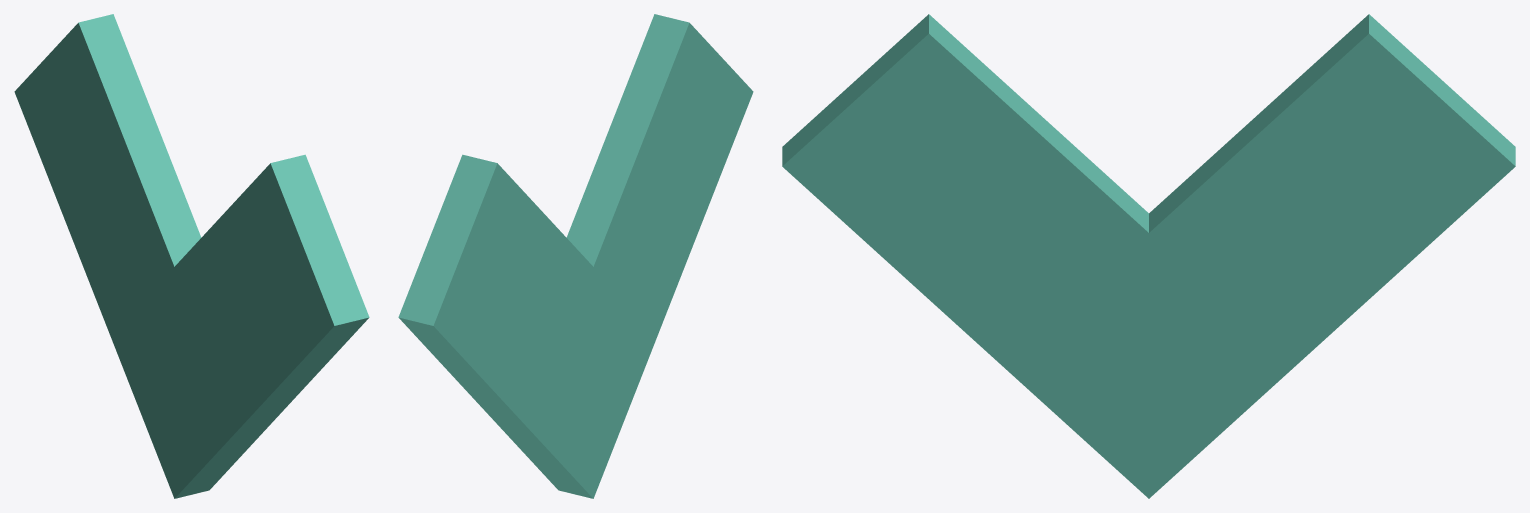
File: arrowDown.glb
3 renders of one model, left to right at view 1: azimuth 30°, elevation 25°; view 2: azimuth 150°, elevation 25°; view 3: azimuth 270°, elevation 25°, orthographic. The views are drawn at different scales.
Parts seen in each view (by area): view 1: ArrowDown; view 2: ArrowDown; view 3: ArrowDown.
Part boxes in pixels (x1,y1,x2,y2): ArrowDown: (14, 14, 369, 498); ArrowDown: (398, 14, 753, 498); ArrowDown: (782, 14, 1515, 498).
Bounding box in the file's own units: 0.4474 × 4.95 × 7.07.
